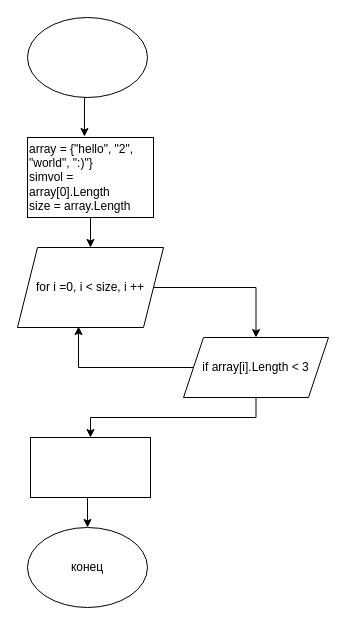
This 346x625 diagram has some shape labels left out. The box of each missing label's shape, as (x1, y1, x2, y2) in pixels:
print(array[i]): (30, 436, 150, 498)
начало: (26, 16, 148, 98)
